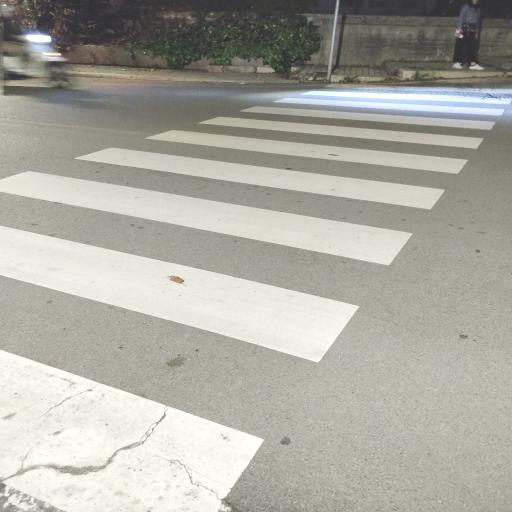crosswalk: (1, 166, 418, 371), (220, 95, 508, 135)
